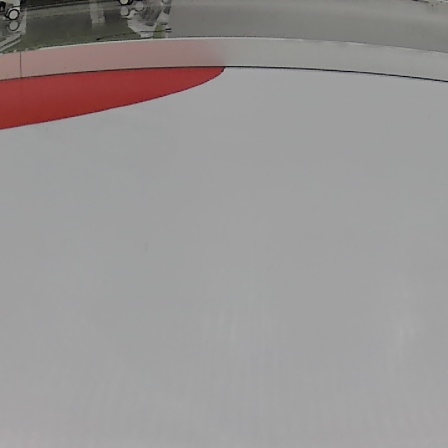red_base: (1, 66, 233, 133)
